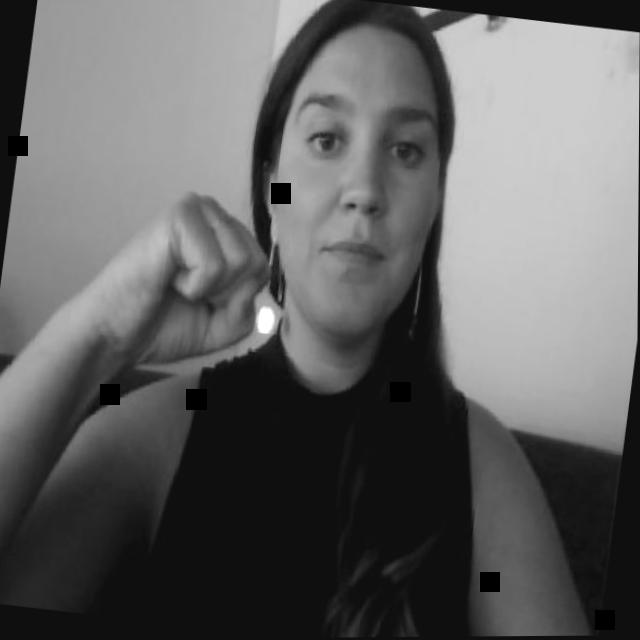Rock: (92, 181, 288, 376)
